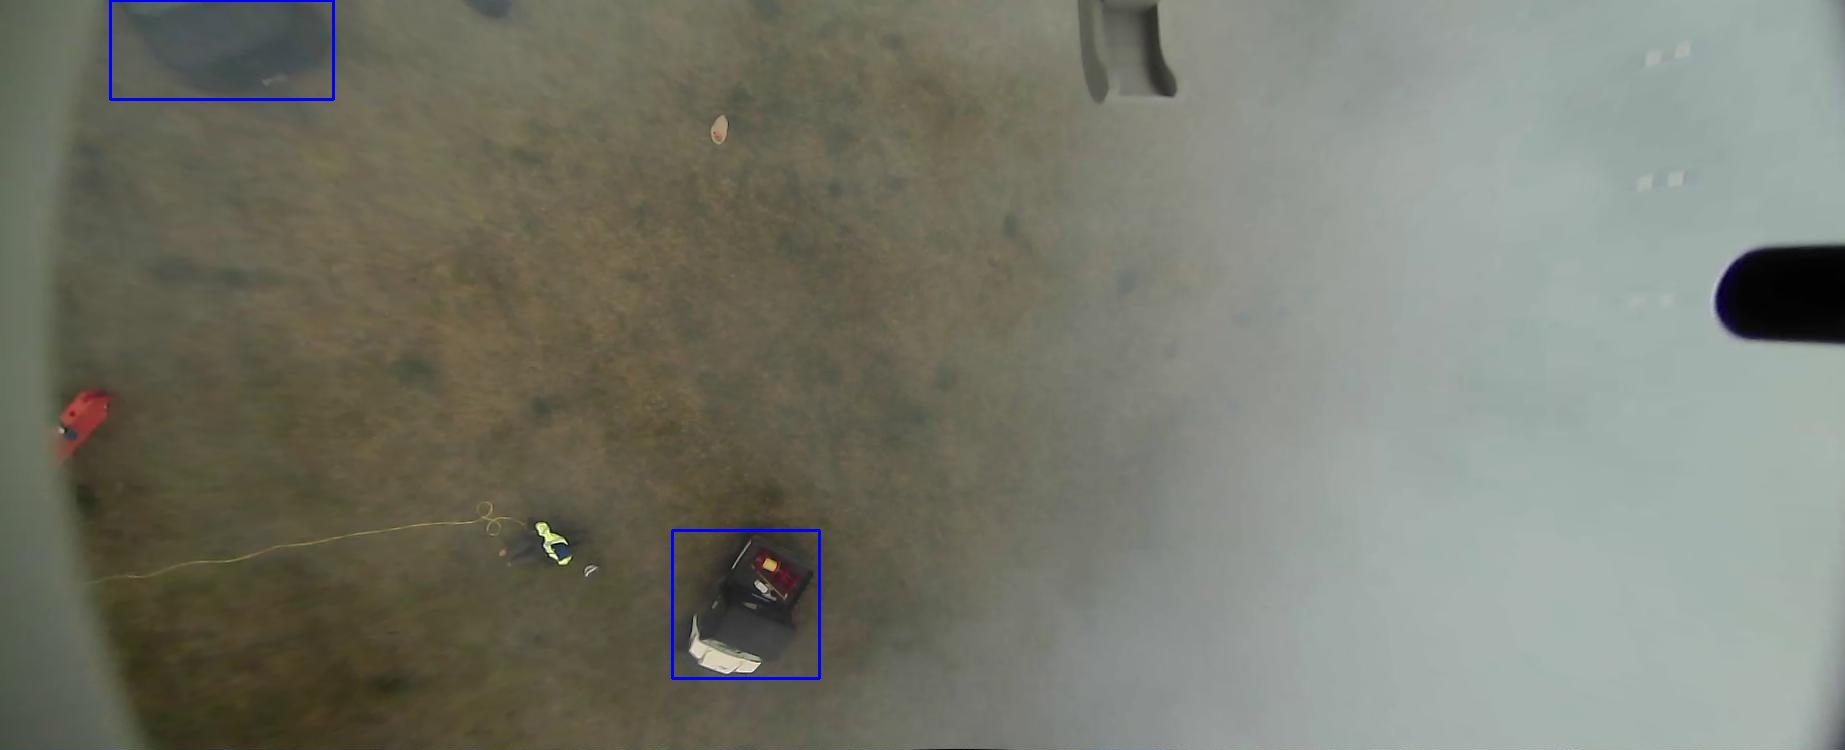vehicle: (0, 109, 99, 333), (529, 672, 678, 750)
